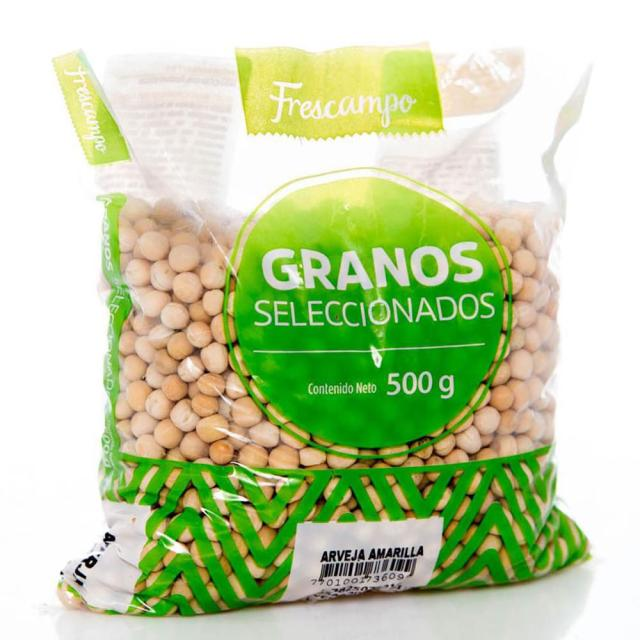arvejas: (121, 255, 232, 446)
